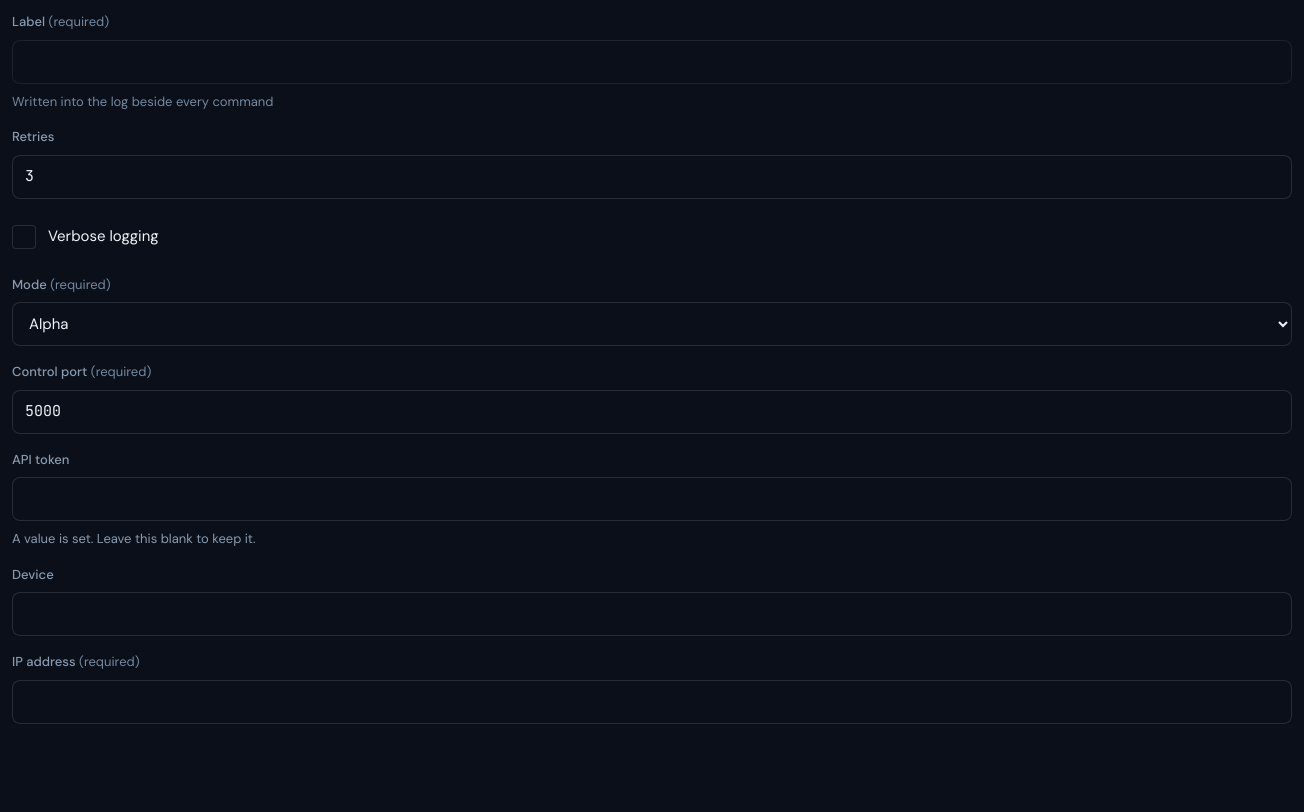
Test: SchemaForm — a fabricated driver schema › renders an encrypted field write-only, with a set indicator and no stored value
Check: the text "A value is set. Leave this blank to keep it." is shown, box [12, 530, 256, 547]
Type "a-new-token" into the password field labelled "API token".
click(652, 499); type("a-new-token")  # box [12, 477, 1292, 521]
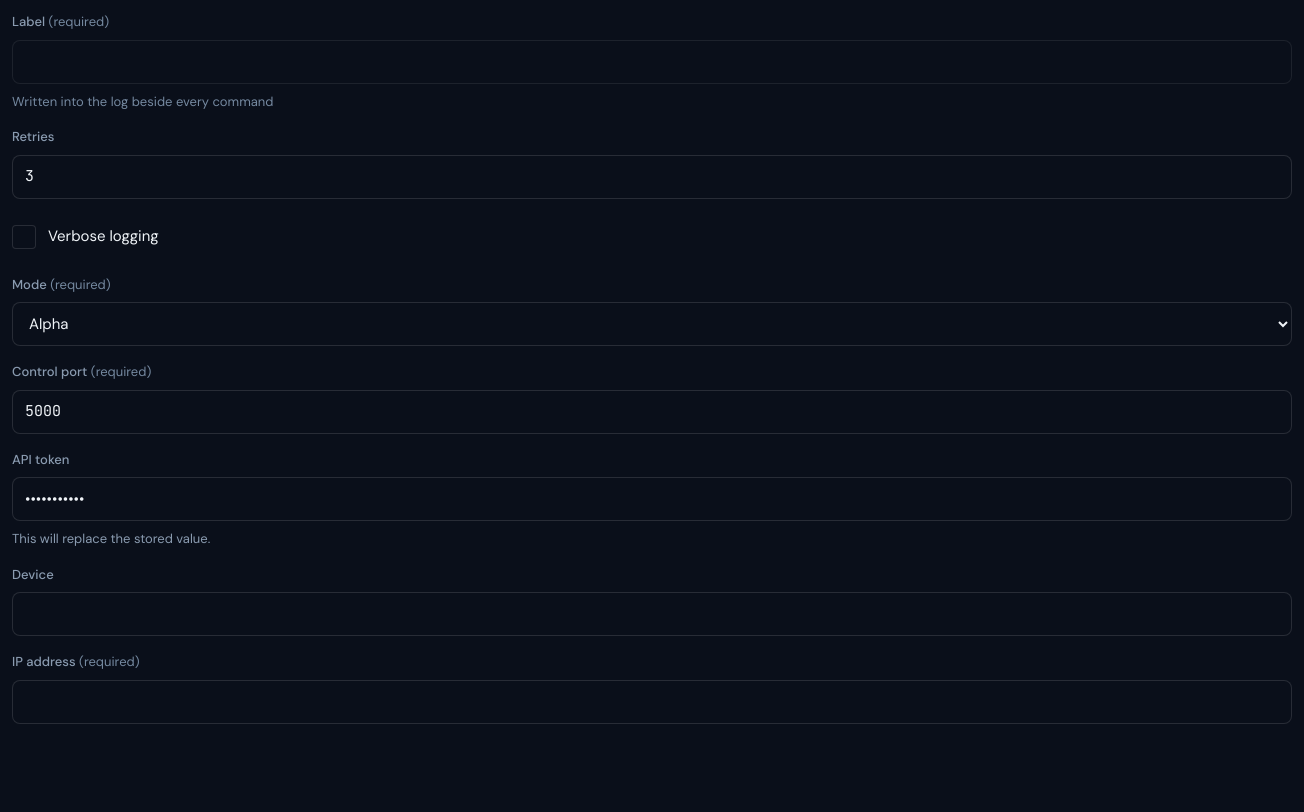
Check: the text "This will replace the stored value." is shown, box [12, 530, 210, 547]
